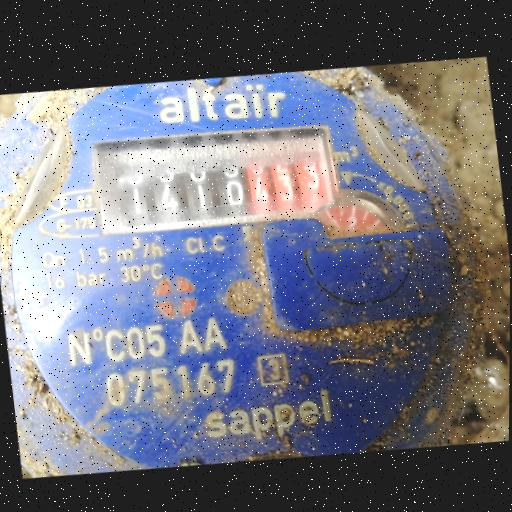0: (217, 163, 247, 210)
1: (184, 166, 214, 214), (123, 174, 152, 218)
3: (296, 155, 326, 204), (270, 160, 298, 205)
4: (153, 169, 183, 214), (246, 164, 273, 208)
border_water_meter_number: (106, 131, 337, 244)
